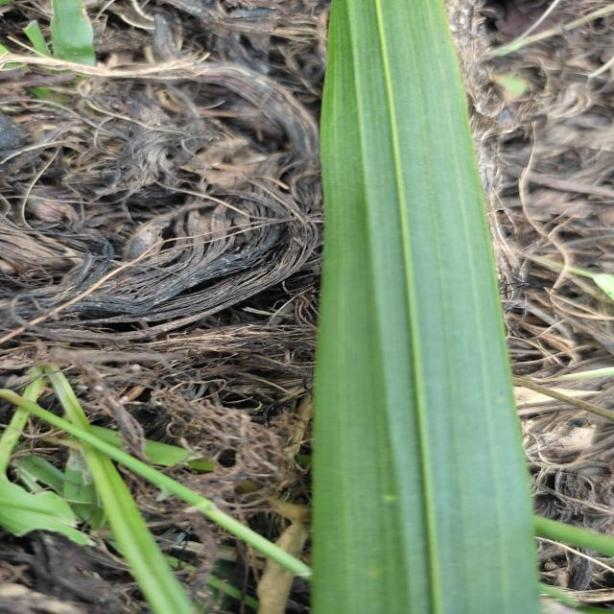Healthy: (312, 0, 540, 614)
